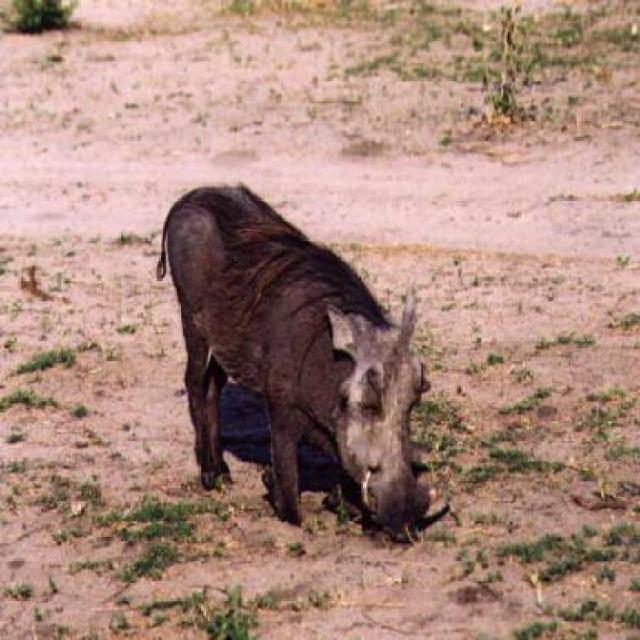pig: (152, 178, 434, 548)
